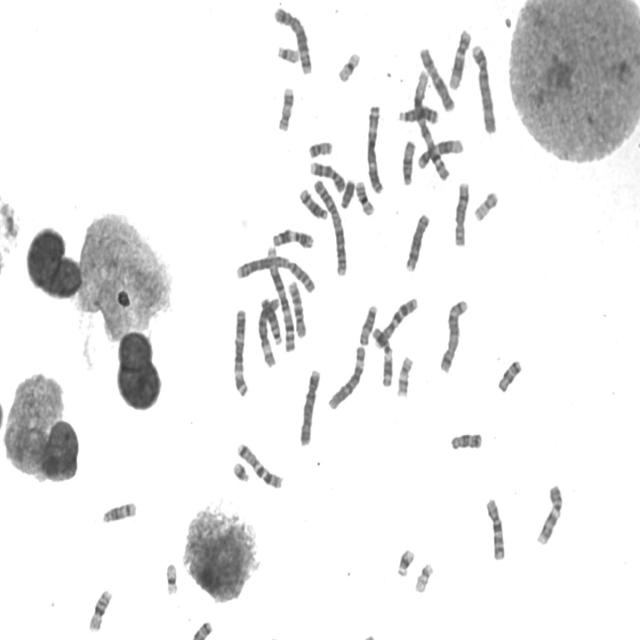A1: (411, 66, 452, 183), (264, 241, 297, 353)
A2: (312, 176, 348, 278), (234, 252, 318, 294)
A3: (364, 101, 385, 195), (230, 305, 250, 398)
B4: (469, 41, 498, 136), (297, 365, 322, 447)
B5: (272, 4, 314, 76), (437, 296, 469, 374)
C10: (484, 495, 506, 563), (285, 278, 307, 339)
C11: (370, 323, 394, 389), (270, 226, 315, 251)
C12: (415, 136, 465, 170), (446, 26, 472, 91)
C6: (326, 342, 366, 410), (256, 293, 282, 370)
C7: (372, 294, 419, 351), (235, 439, 285, 490)
C8: (403, 210, 431, 274), (451, 178, 471, 248)
C9: (534, 481, 564, 547), (308, 158, 346, 194)
D13: (257, 295, 283, 348), (395, 103, 440, 125)
D14: (297, 185, 329, 221), (99, 498, 138, 525)
D15: (357, 302, 379, 347), (399, 137, 416, 187)
E16: (86, 586, 114, 633), (354, 177, 376, 217)
E17: (275, 84, 295, 133), (394, 353, 414, 399)
E18: (495, 357, 523, 394), (448, 429, 484, 452)
F19: (335, 49, 362, 83), (163, 560, 179, 597)
F20: (472, 188, 499, 223), (306, 138, 334, 160)
G21: (394, 545, 416, 579), (230, 458, 250, 484)
G22: (412, 560, 435, 594), (275, 42, 301, 65)
X: (417, 44, 456, 114)
Y: (338, 176, 356, 210)
